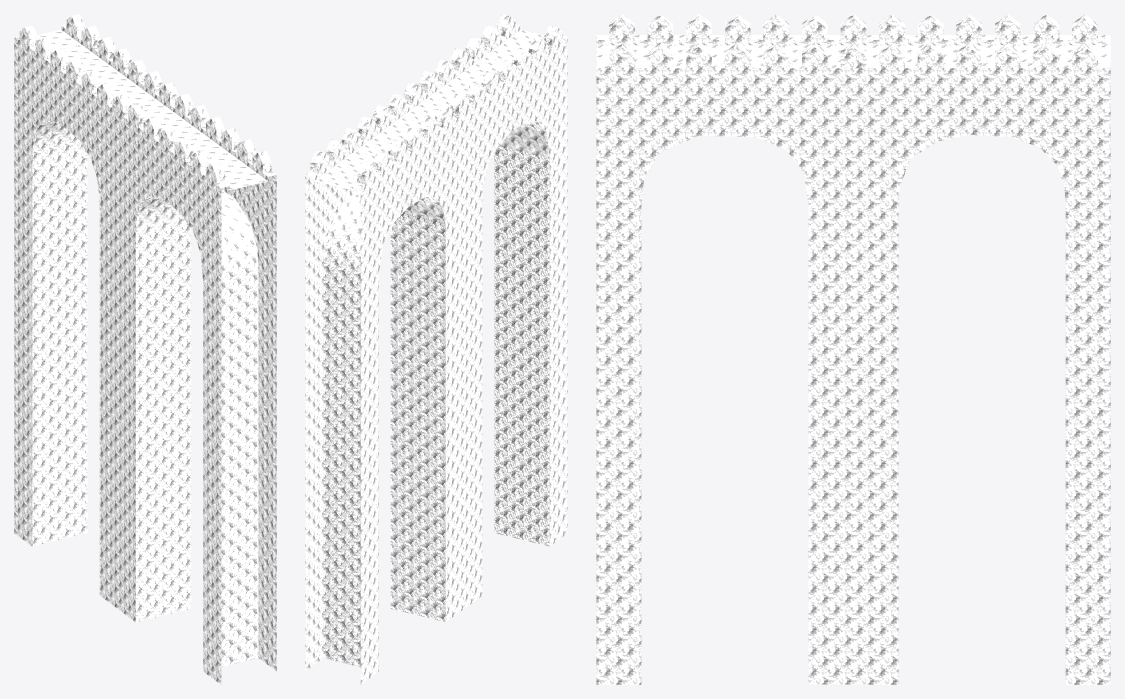
The model's file is SM_castle_bridge_01.fbx.
The picture shows the model from 3 angles, left to right: view 1: azimuth 30°, elevation 25°; view 2: azimuth 150°, elevation 25°; view 3: azimuth 270°, elevation 25°; orthographic projection. The views are drawn at different scales.
Parts seen in each view (by area): view 1: SM_castle_bridge_01_LOD0; view 2: SM_castle_bridge_01_LOD0; view 3: SM_castle_bridge_01_LOD0.
Part boxes in pixels (left/top/right/bottom): SM_castle_bridge_01_LOD0: left=14, top=14, right=276, bottom=684; SM_castle_bridge_01_LOD0: left=305, top=14, right=567, bottom=684; SM_castle_bridge_01_LOD0: left=596, top=14, right=1110, bottom=684.
Bounding box in the file's own units: 693 × 4492 × 6141.
Materials: 1 (1 with a texture image).
